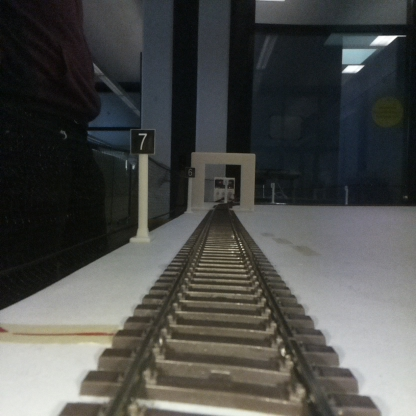black-info-6: (185, 167, 195, 213)
black-info-7: (131, 129, 154, 241)
